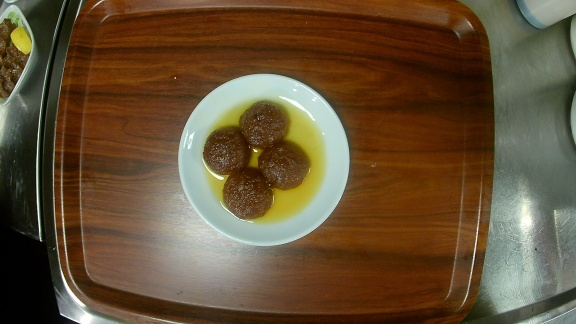kemalpasa: (178, 72, 351, 243)
